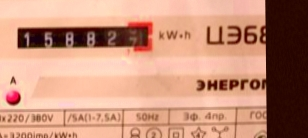1: (23, 29, 32, 46)
2: (107, 28, 117, 45)
5: (44, 29, 54, 45)
7: (129, 34, 138, 45)
8: (86, 29, 96, 46), (65, 30, 75, 46)
screen: (11, 16, 159, 57)
